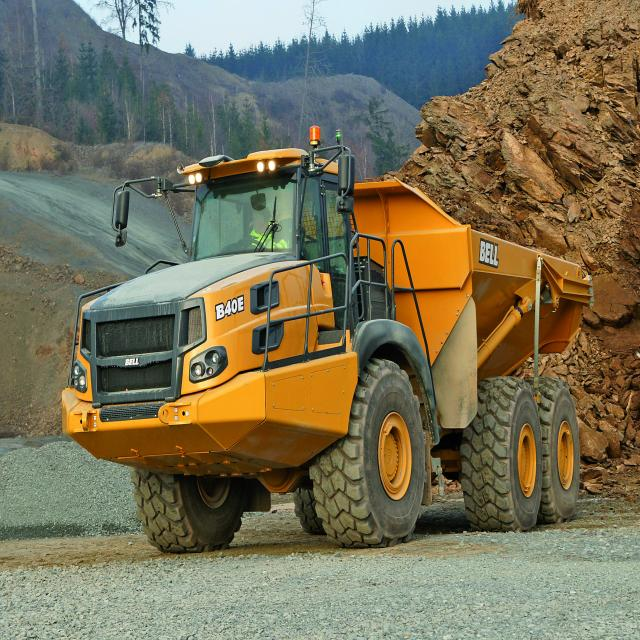dump_truck: (40, 118, 602, 557)
